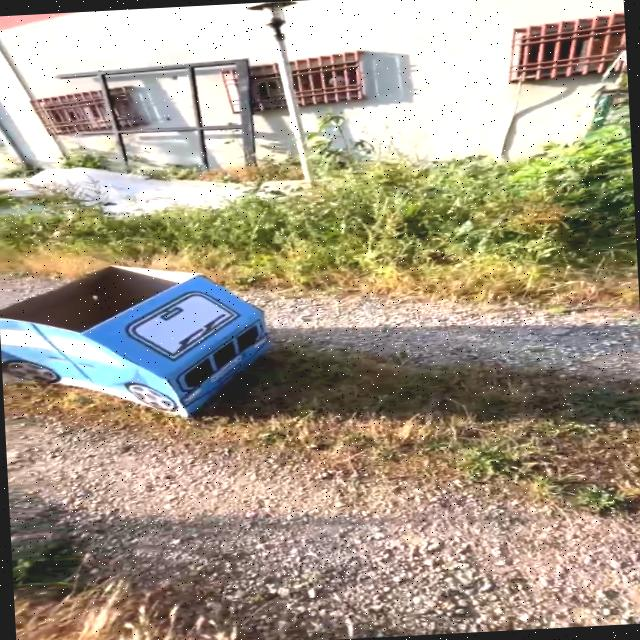blue_car: (0, 234, 333, 446)
